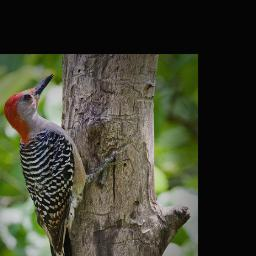Woodpecker: (0, 70, 133, 256)
